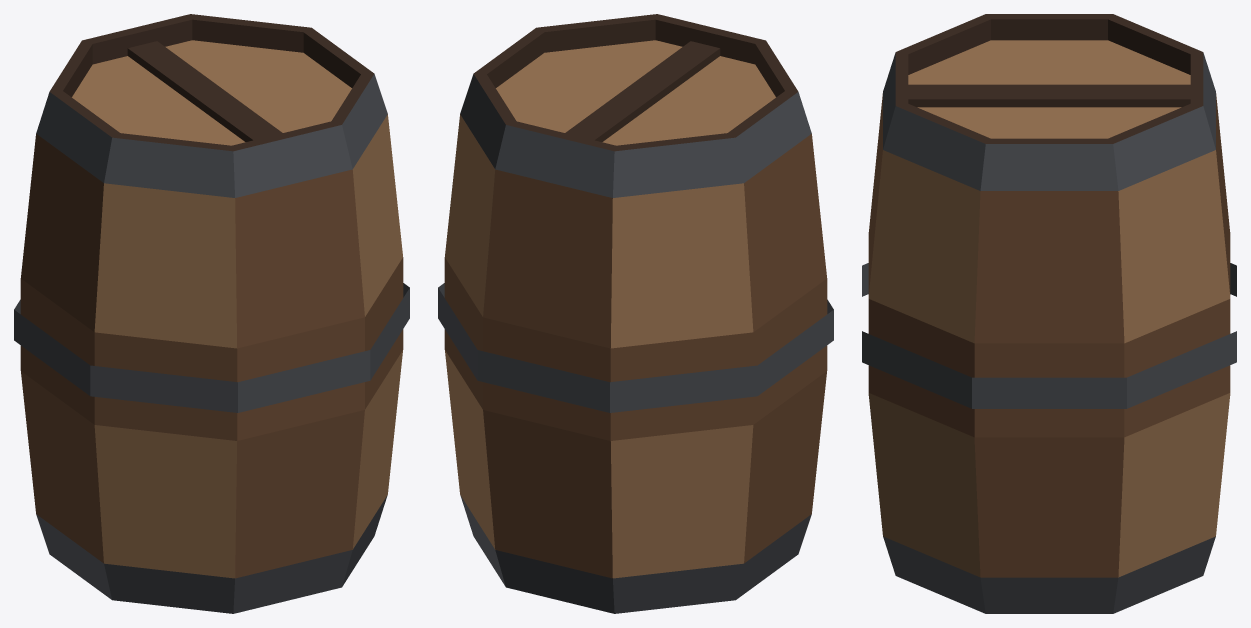
The model's file is barrel.fbx.
The picture shows the model from 3 angles, left to right: view 1: azimuth 30°, elevation 25°; view 2: azimuth 150°, elevation 25°; view 3: azimuth 270°, elevation 25°; orthographic projection.
Parts seen in each view (by area): view 1: barrel; view 2: barrel; view 3: barrel.
Part boxes in pixels (box(x1,y1,x2,y2)): barrel: box(14, 14, 409, 613); barrel: box(438, 14, 833, 613); barrel: box(862, 14, 1236, 613).
Bounding box in the file's own units: 0.6504 × 0.9 × 0.6504.
